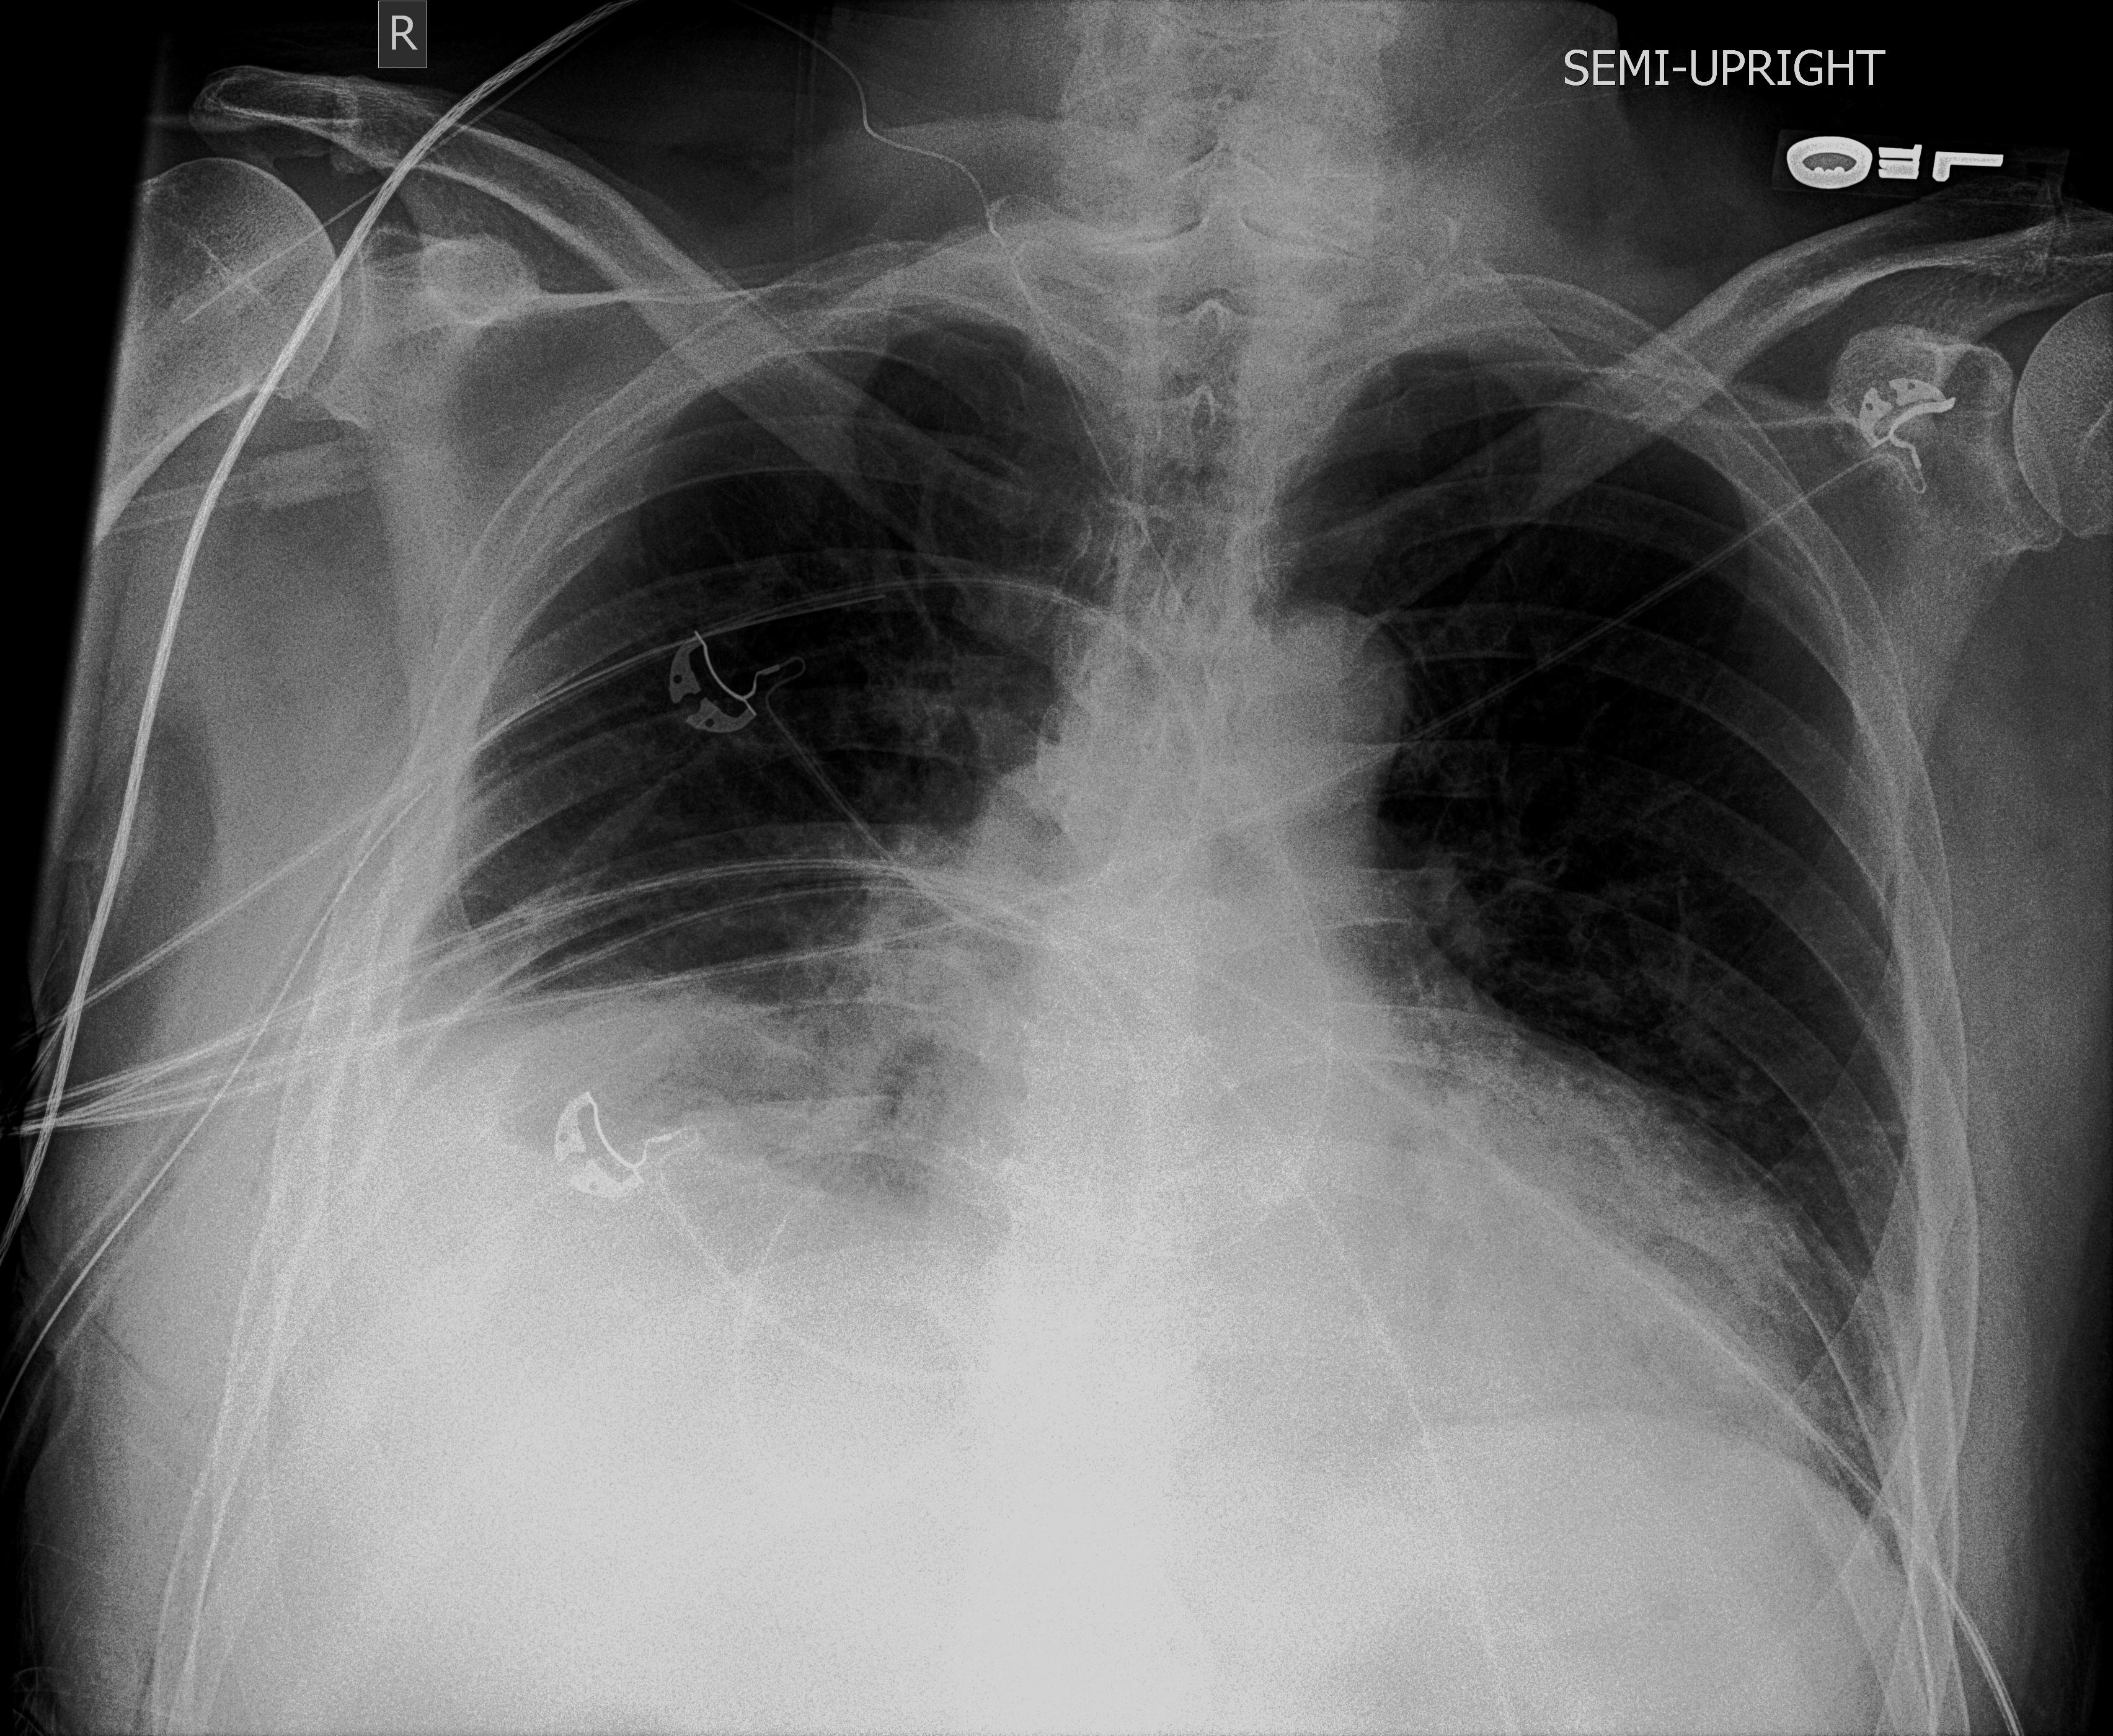Pleural Effusion: (272, 1001, 802, 1469)
